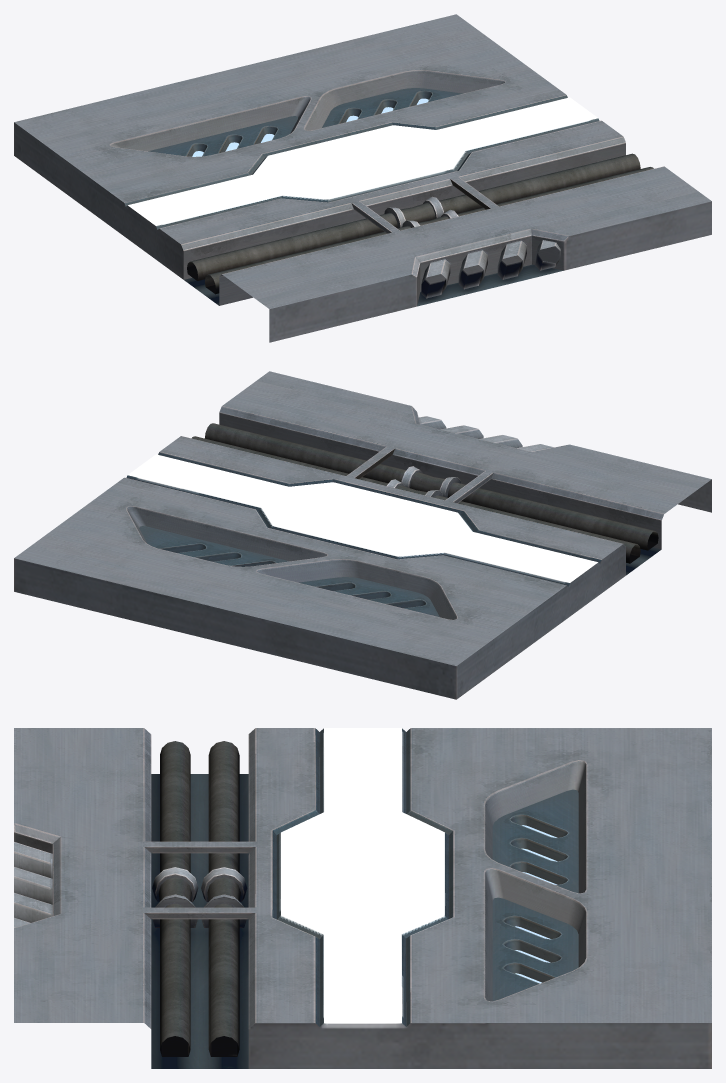
The model's file is DS_SM0009_Scifi_Room_FloorPipeSides_01.fbx.
The picture shows the model from 3 angles, top to bottom: view 1: azimuth 30°, elevation 25°; view 2: azimuth 150°, elevation 25°; view 3: azimuth 270°, elevation 25°; orthographic projection. The views are drawn at different scales.
Visible parts, largest first — view 1: DS_SM0009_Scifi_Room_FloorPipeSides_01_LP; view 2: DS_SM0009_Scifi_Room_FloorPipeSides_01_LP; view 3: DS_SM0009_Scifi_Room_FloorPipeSides_01_LP.
Boxes of the visible parts, <box> form: DS_SM0009_Scifi_Room_FloorPipeSides_01_LP: <box>14,14,711,342</box>; DS_SM0009_Scifi_Room_FloorPipeSides_01_LP: <box>14,371,711,699</box>; DS_SM0009_Scifi_Room_FloorPipeSides_01_LP: <box>14,728,711,1068</box>.
Size of what is drawn, in the model's own units: 400 by 28.95 by 400.
Materials: 1 (1 with a texture image).
